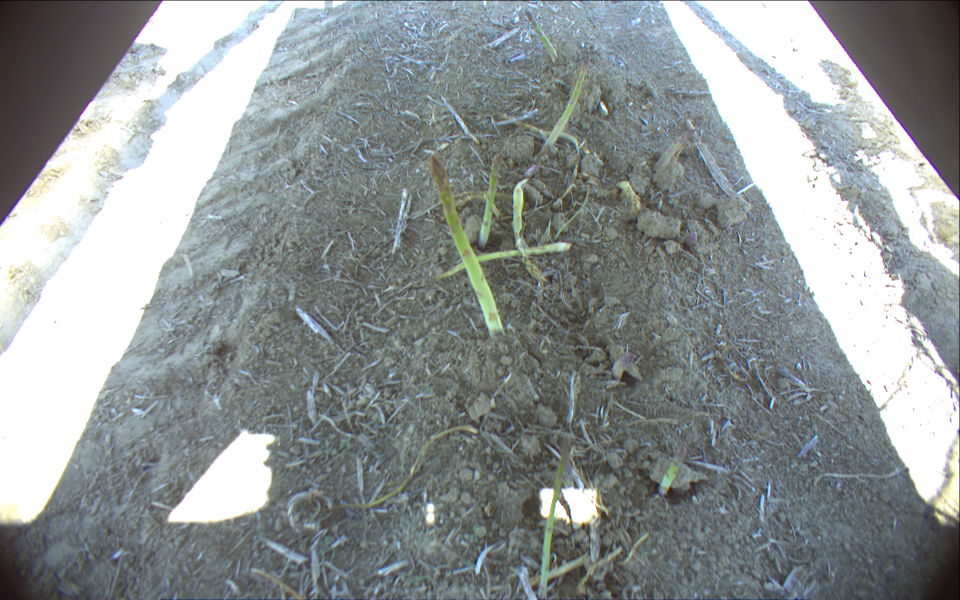aspa: (423, 152, 508, 340), (531, 437, 573, 599), (531, 52, 592, 163), (475, 150, 505, 250), (519, 8, 569, 61)
